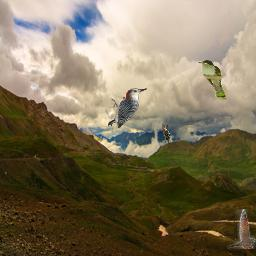Cuckoo: (227, 209, 256, 249), (197, 60, 226, 100)
Woodpecker: (108, 88, 147, 128), (163, 125, 173, 147)
